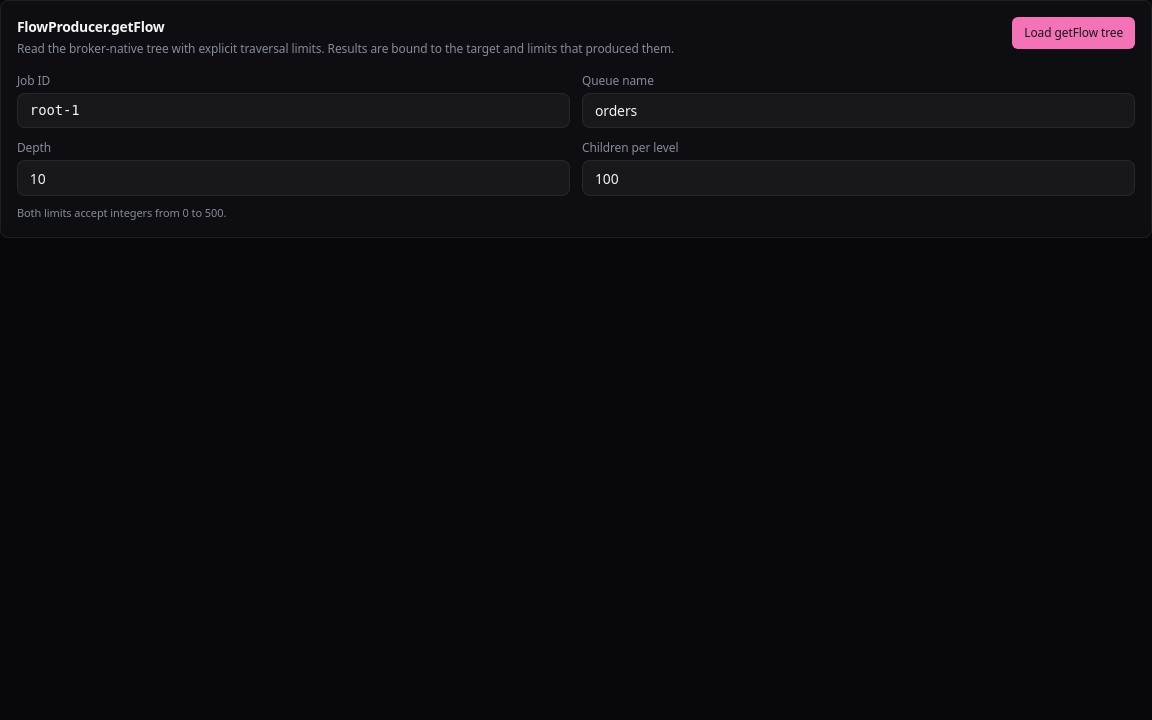
FlowProducer.getFlow operator UI › renders the explicit not-found state returned by getFlow
Click the button "Load getFlow tree" at (1074, 33), box [1012,17,1135,49]
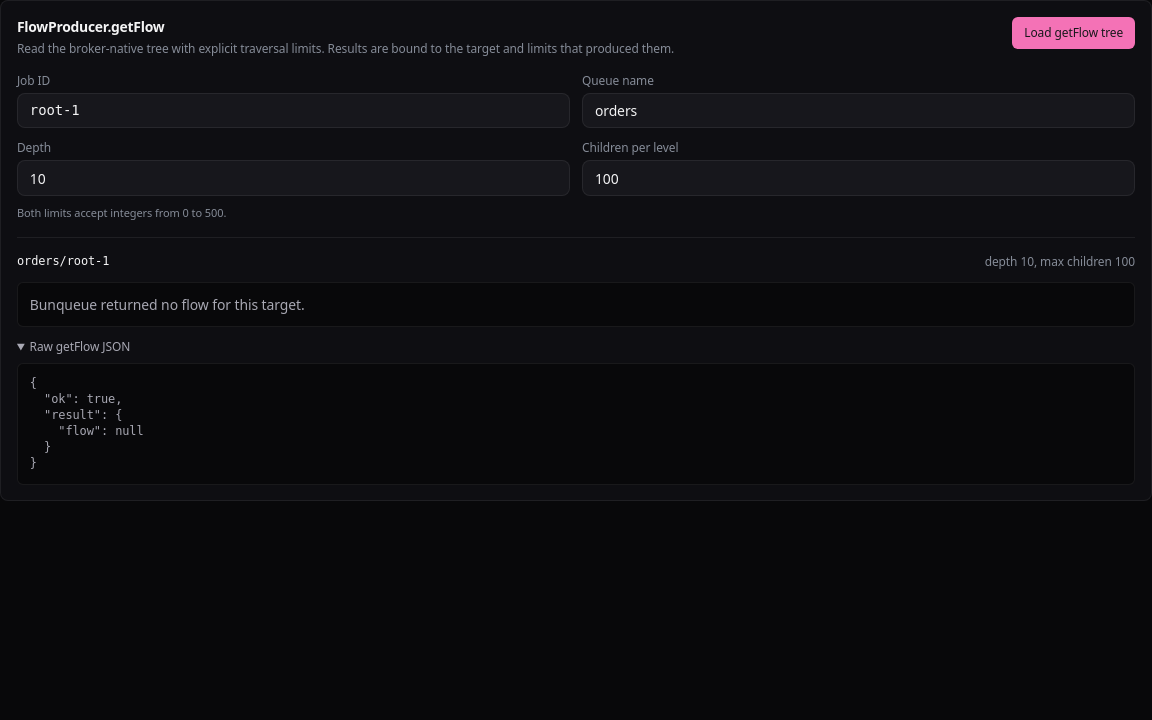
Result: the text "Bunqueue returned no flow for this target." is shown at [17,282,1135,328]
